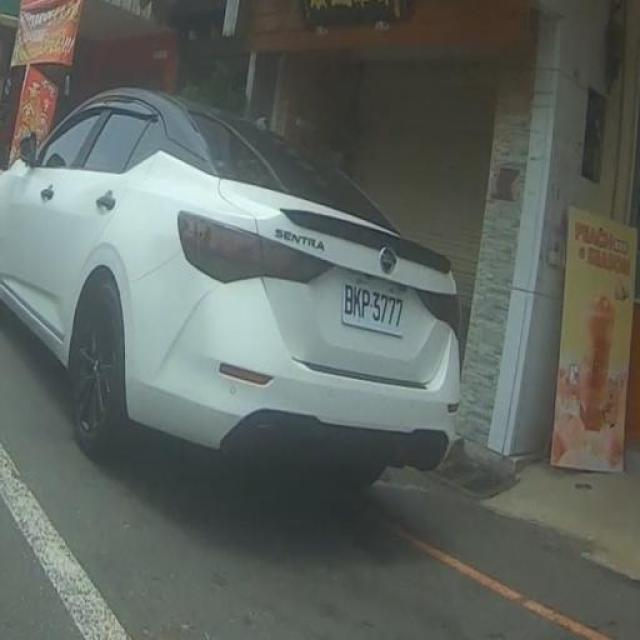Legalparking: (19, 66, 528, 546)
